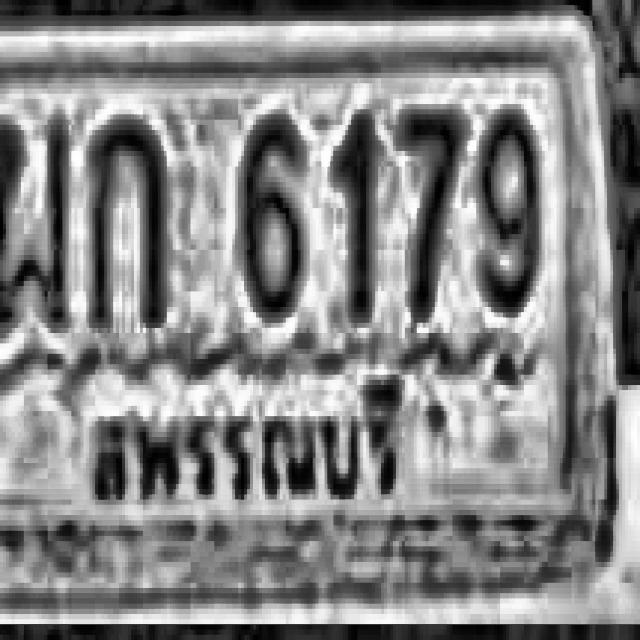license-plate: (0, 25, 624, 594)
